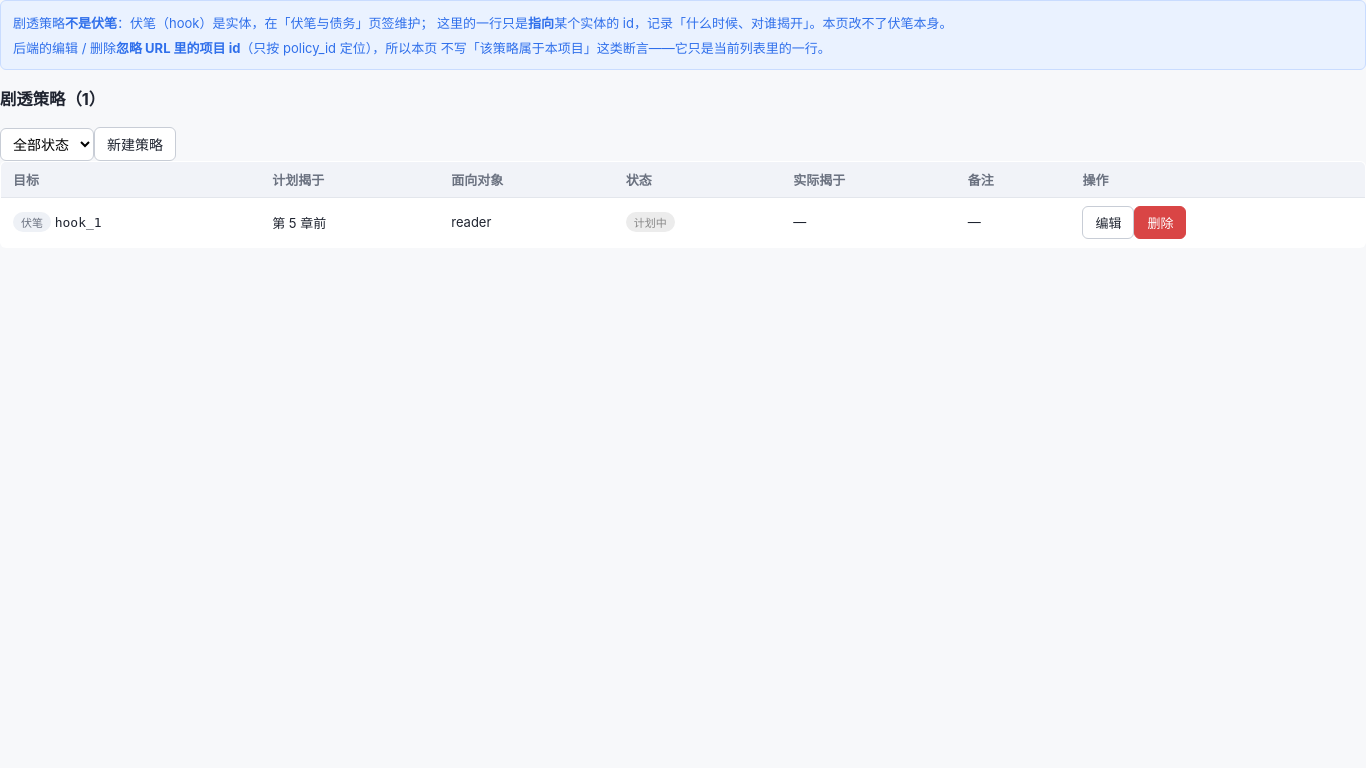
Test: RevealTab › 状态改「已揭开」而原行也没有章号 ⇒ 禁用保存并说明（正例：原行有值时放行）
The width and height of the screenshot is (1366, 768).
Click the button with test id "reveal-edit-rp1". click: (1108, 222)
box: [1082,206,1134,239]
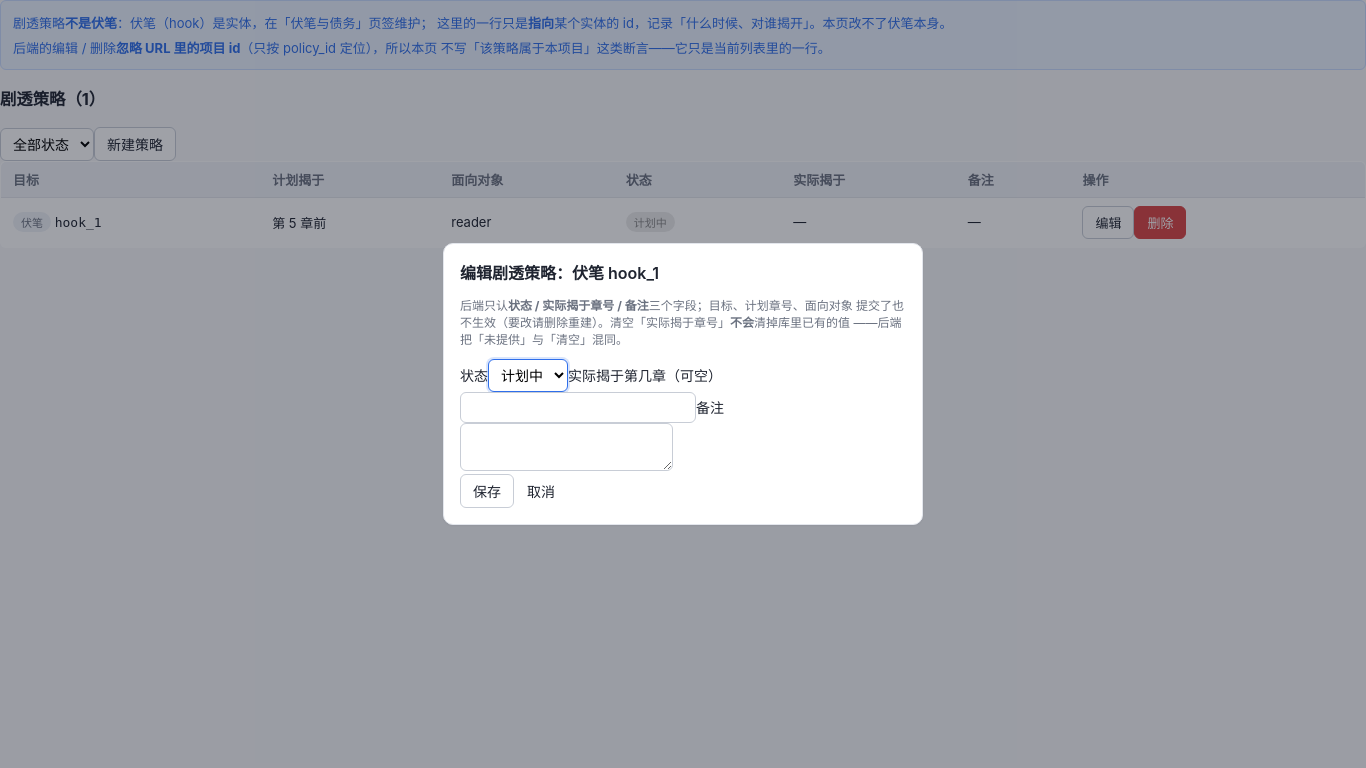
Select "已揭开" in the dropdown with test id "reveal-edit-status". click: (528, 376)
box: [488,359,568,392]
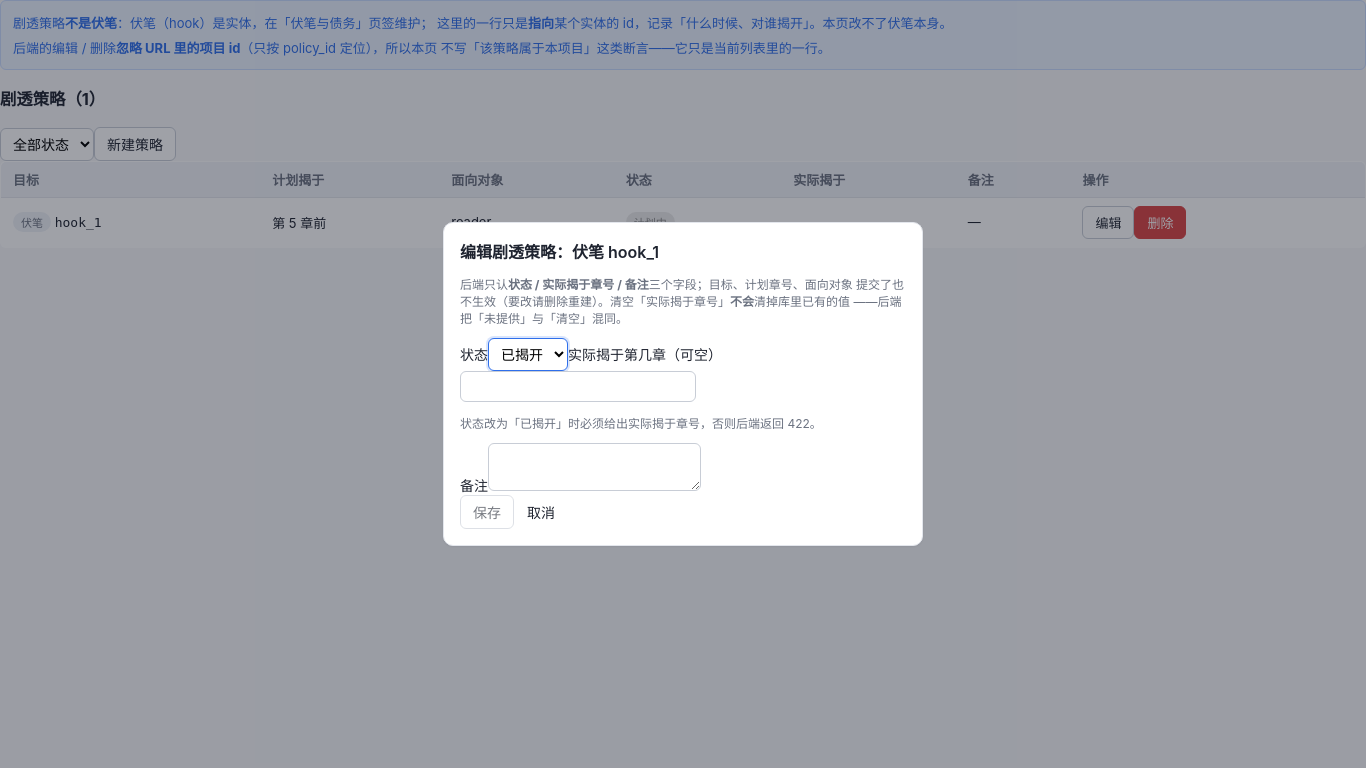
Now the text "状态改为「已揭开」时必须给出实际揭于章号，否则后端返回 422。" is shown, box [460,416,822,431]
Now the button with test id "reveal-edit-submit" is disabled, box [460,495,514,529]
